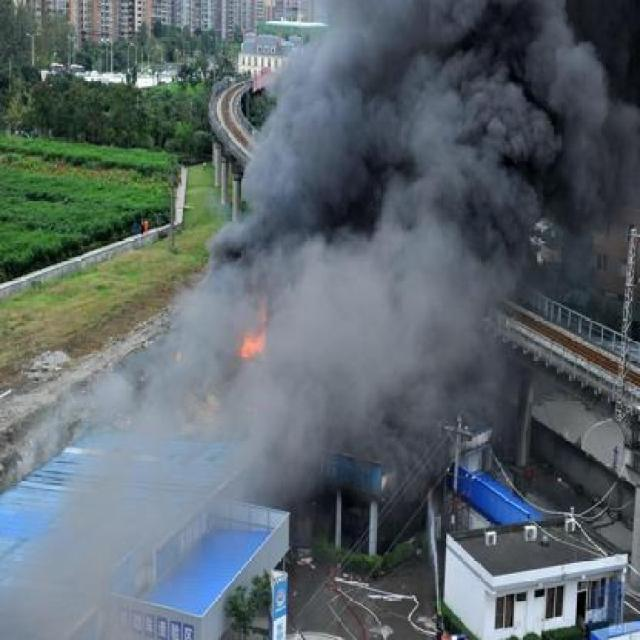Fire: (214, 300, 286, 372)
Smoke: (245, 1, 637, 272)
